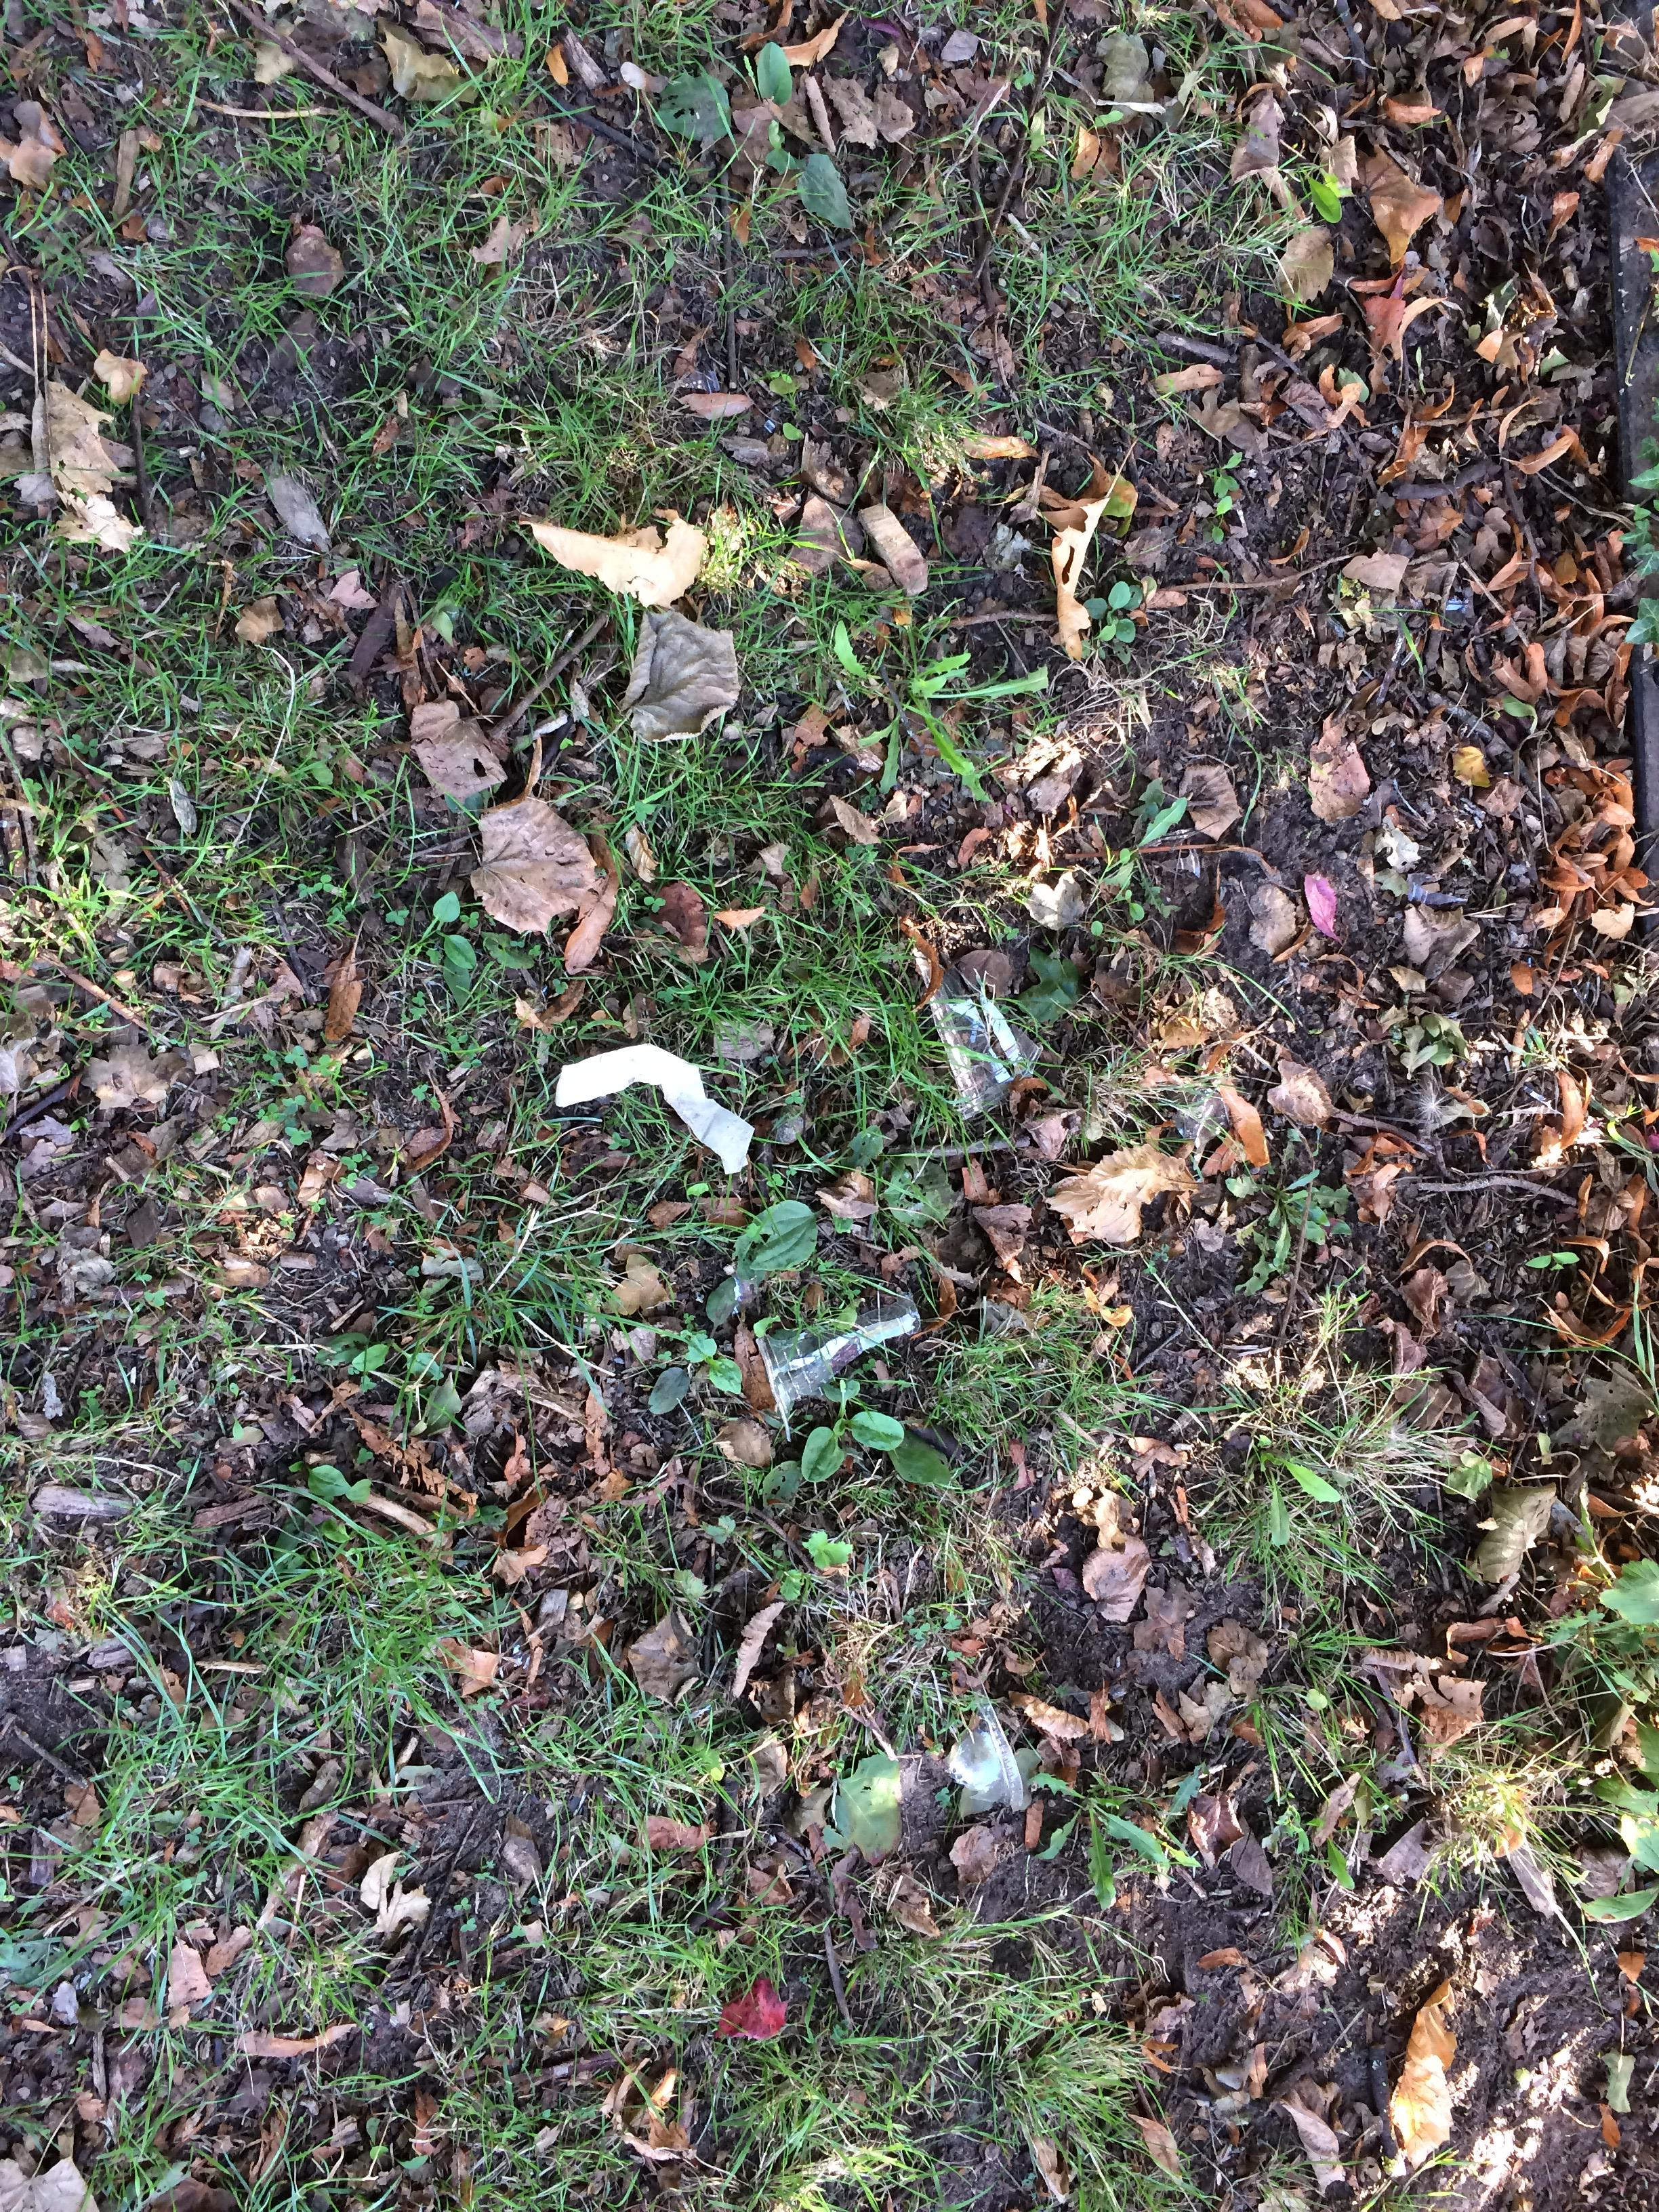Trash: (554, 1028, 753, 1177), (746, 1294, 924, 1406), (915, 977, 1037, 1118)
